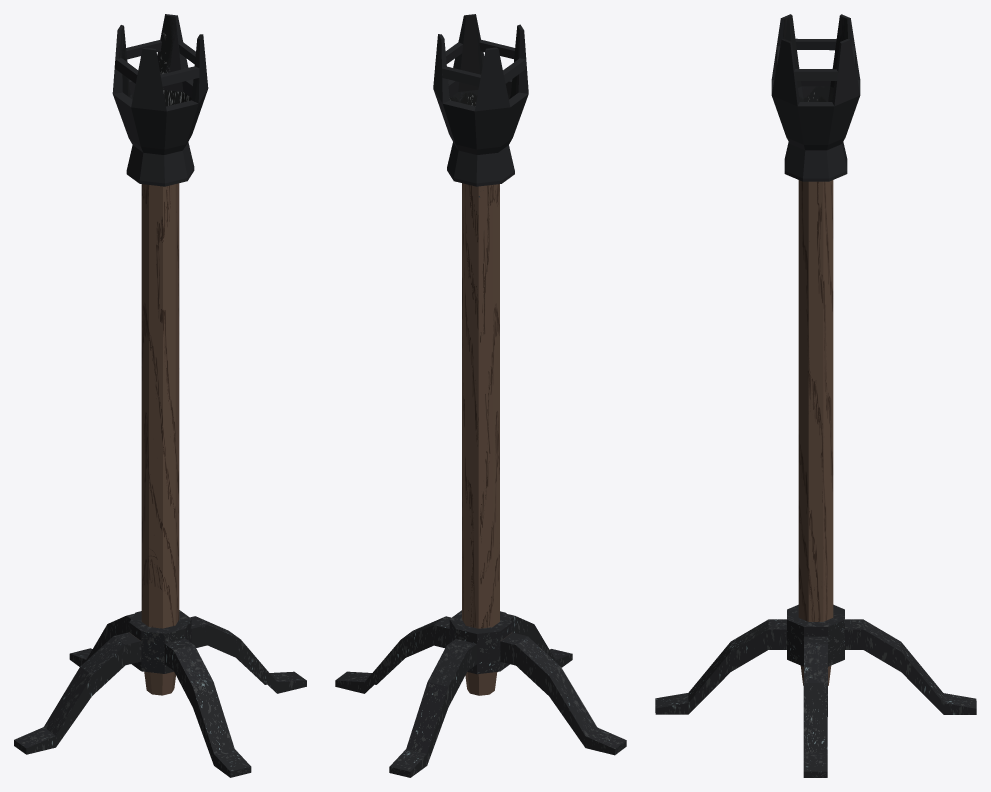
The model's file is p_standingtorch.fbx.
3 renders of one model, left to right at view 1: azimuth 30°, elevation 25°; view 2: azimuth 150°, elevation 25°; view 3: azimuth 270°, elevation 25°, orthographic.
Parts seen in each view (by area): view 1: pCylinder9; view 2: pCylinder9; view 3: pCylinder9.
Part boxes in pixels (x1=…): pCylinder9: x1=14, y1=14, x2=306, y2=777; pCylinder9: x1=335, y1=14, x2=626, y2=777; pCylinder9: x1=655, y1=14, x2=976, y2=777.
Size of the model in its own units: 85.21 by 199 by 85.03.
